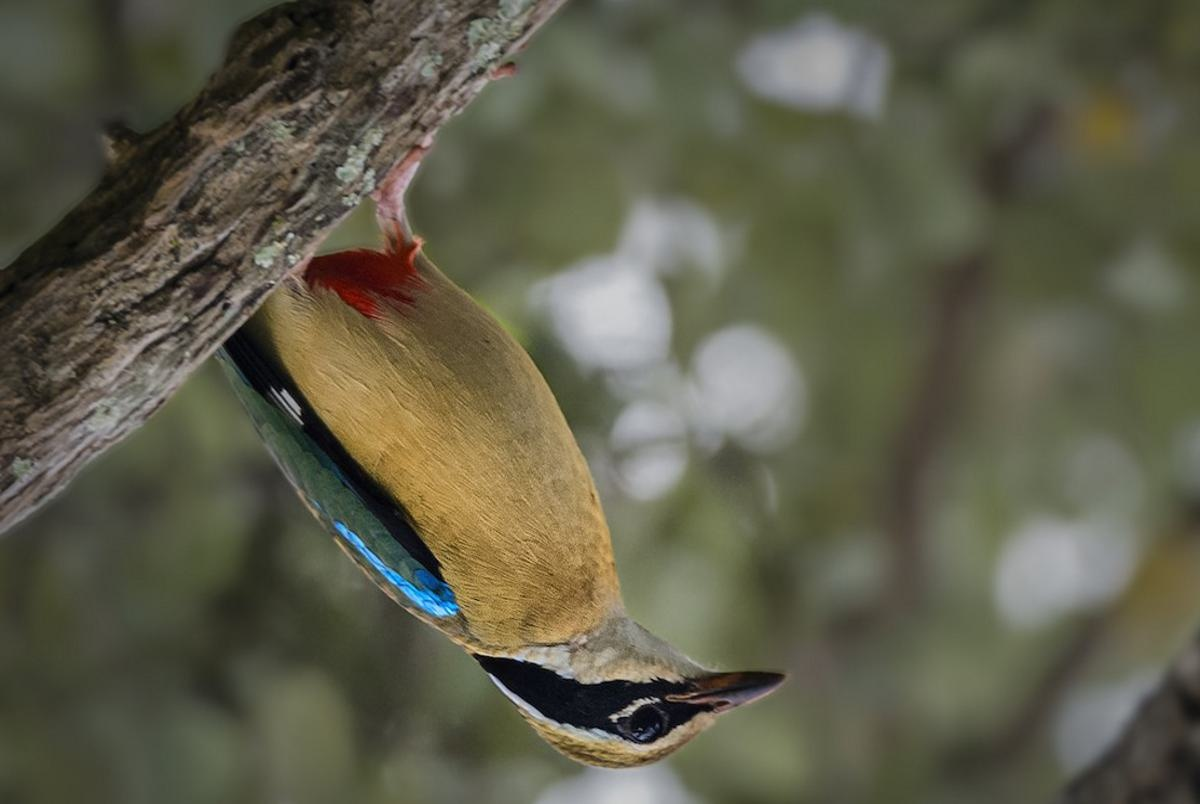pitta: (190, 98, 799, 784)
